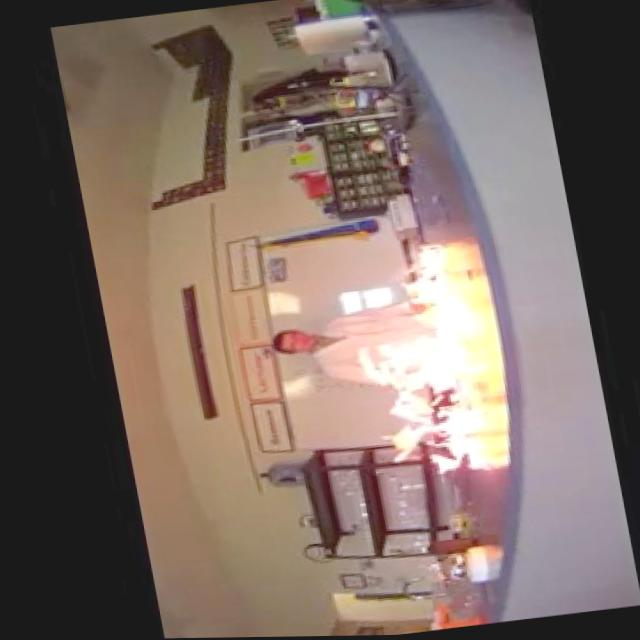Fire: (326, 236, 488, 485)
